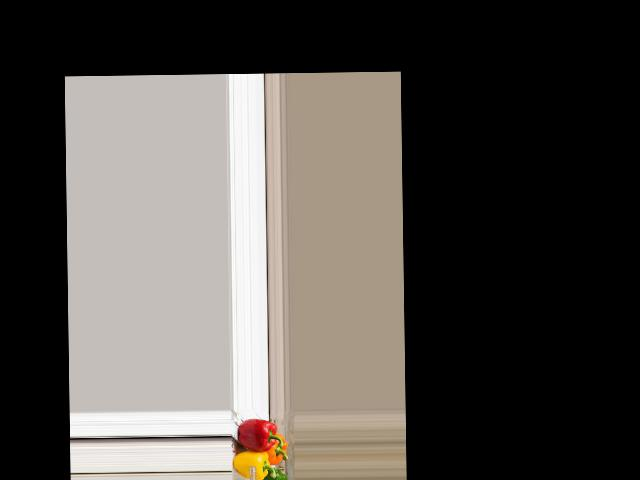bell_pepper: (265, 433, 288, 466)
